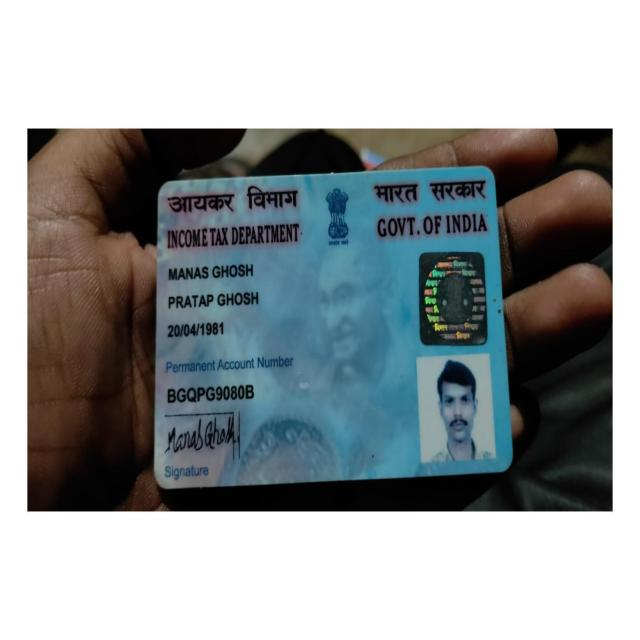pan_card: (157, 170, 509, 487)
